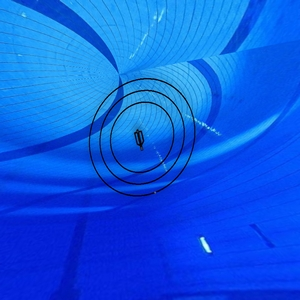circle: (85, 71, 198, 203)
submarine: (132, 125, 148, 154)
